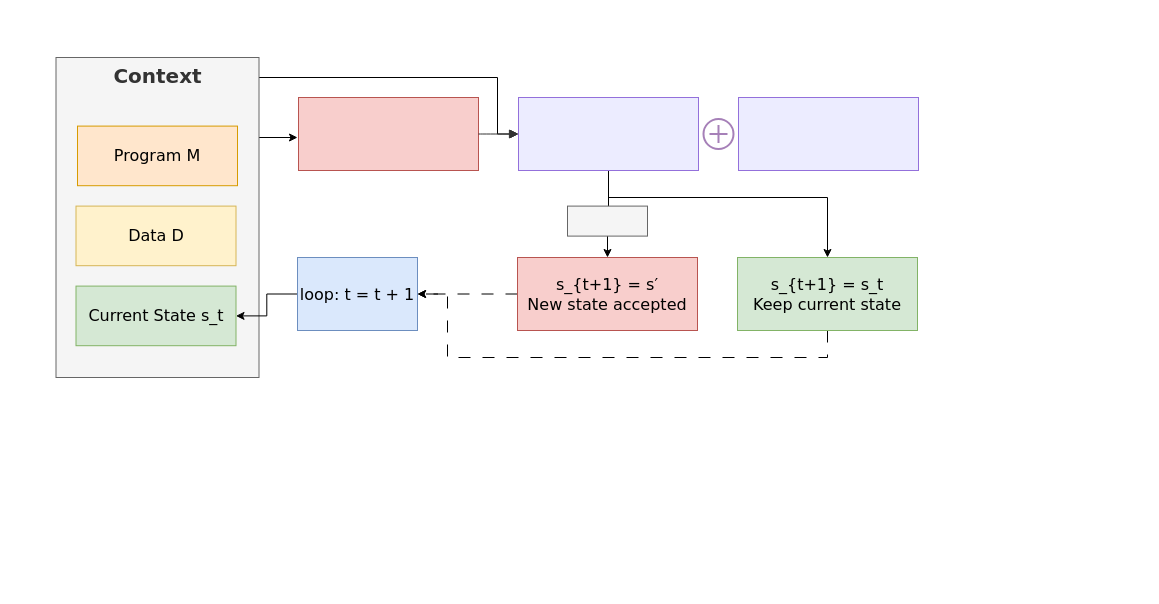
The diagram is 1159 pixels wide and 604 high, and some of its shapes have lost their labels. Here are the shapes that lost their labels. From the top down, the box of each, then its label:
(298, 96, 478, 170): T_θ LLM Generator Proposed State s′
(518, 96, 698, 170): A_φ MH Acceptor Acceptance rate α
(738, 96, 918, 170): u ~ Uniform(0, 1)
(566, 205, 648, 236): if α > u
